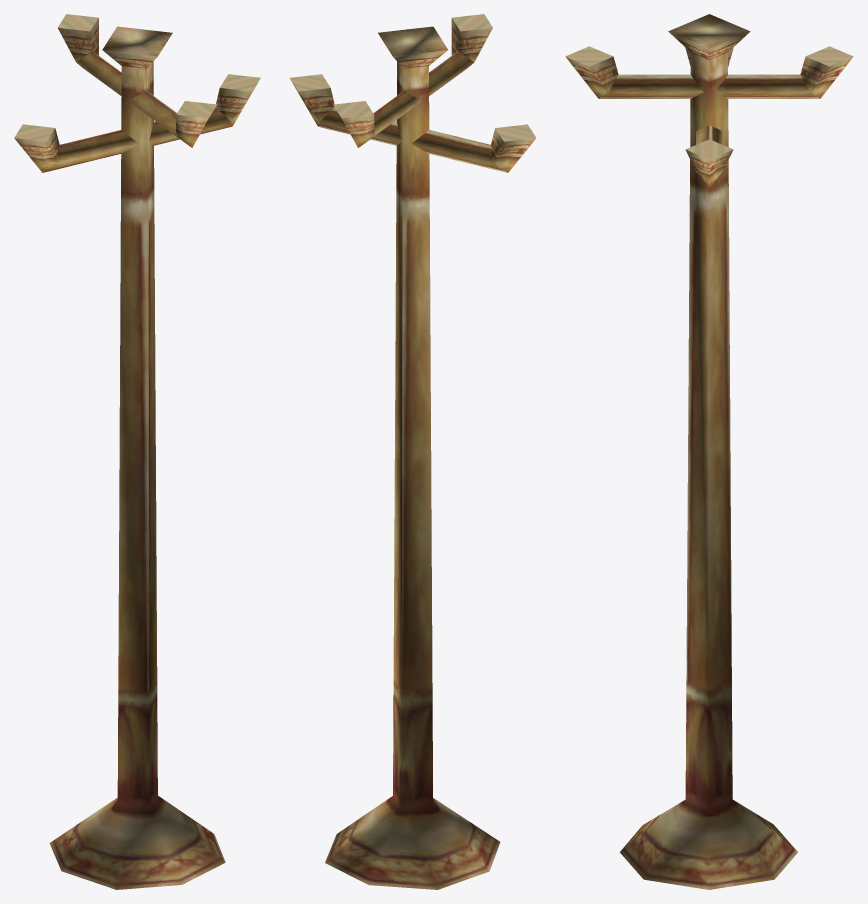
Rendered from candelabratall02.obj.
The picture shows the model from 3 angles, left to right: view 1: azimuth 30°, elevation 25°; view 2: azimuth 150°, elevation 25°; view 3: azimuth 270°, elevation 25°; orthographic projection.
Parts seen in each view (by area): view 1: candelabratall02.m2; view 2: candelabratall02.m2; view 3: candelabratall02.m2.
Boxes of the visible parts, x1,y1,x2,y2 form: candelabratall02.m2: (14,14,260,889); candelabratall02.m2: (290,14,536,889); candelabratall02.m2: (565,14,853,889).
Size of the model in its own units: 1.1 by 3.47 by 1.1.
Materials: 1 (1 with a texture image).
